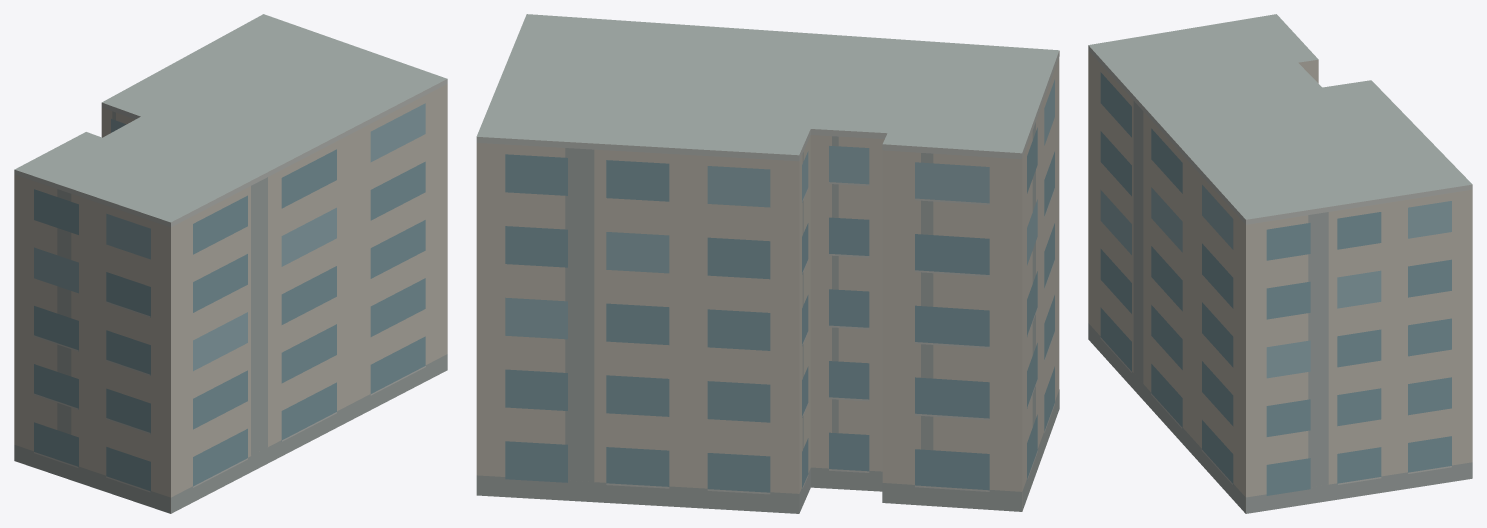
The model's file is survey-upis-32685004.glb.
The picture shows the model from 3 angles, left to right: view 1: azimuth 30°, elevation 25°; view 2: azimuth 150°, elevation 25°; view 3: azimuth 270°, elevation 25°; orthographic projection. The views are drawn at different scales.
Visible parts, largest first — view 1: survey-upis-32685004.tmp; view 2: survey-upis-32685004.tmp; view 3: survey-upis-32685004.tmp.
Boxes of the visible parts, x1,y1,x2,y2 form: survey-upis-32685004.tmp: (14, 14, 447, 513); survey-upis-32685004.tmp: (476, 14, 1059, 513); survey-upis-32685004.tmp: (1088, 14, 1472, 513).
Bounding box in the file's own units: 21.47 × 14.3 × 16.95.
